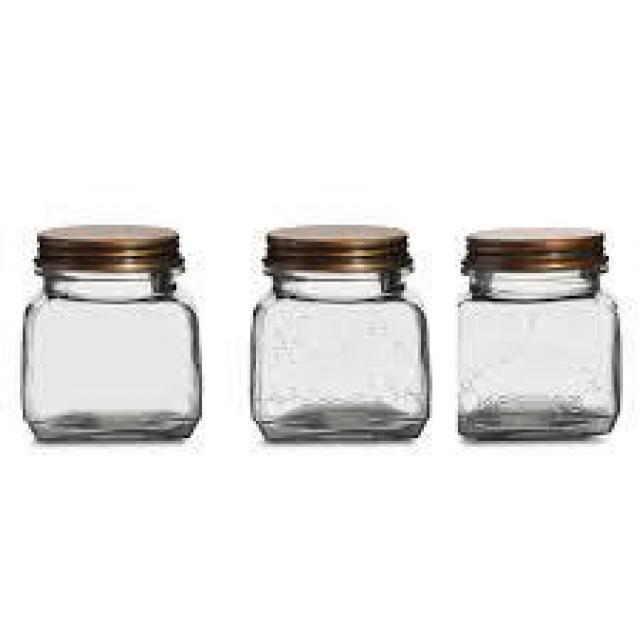glass: (20, 222, 208, 452)
